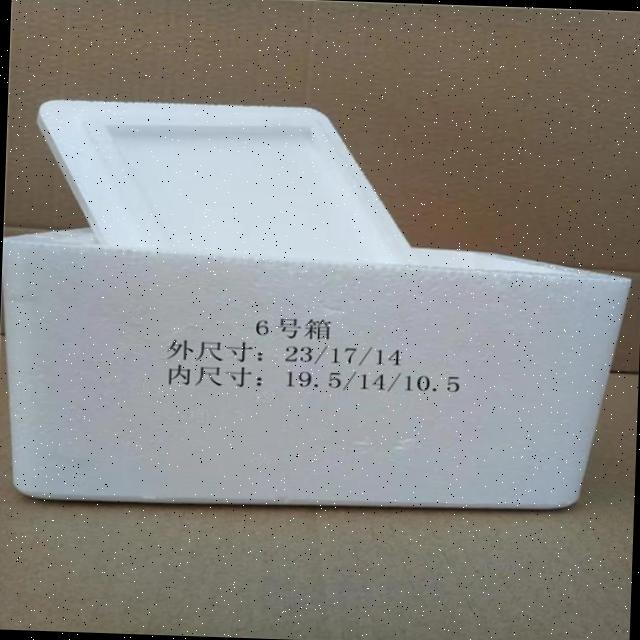styrofoam: (0, 92, 639, 520)
